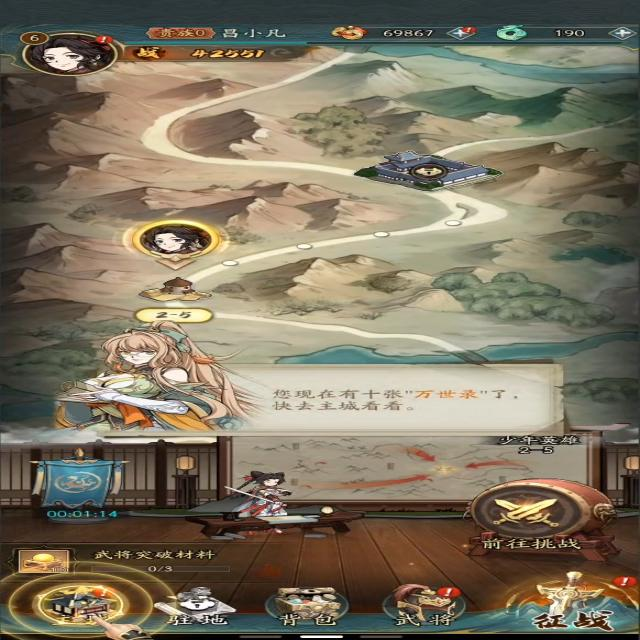hint-guide: (53, 324, 570, 438), (6, 562, 153, 640)
hint-reddot: (431, 584, 464, 600), (608, 573, 640, 589), (93, 586, 119, 602), (92, 33, 113, 44), (460, 25, 480, 35)
navigation-bag: (267, 583, 354, 630)
navigation-fight: (506, 570, 632, 637)
navigation-hero: (375, 582, 479, 631)
navigation-main: (42, 584, 125, 625)
navigation-role: (6, 25, 128, 79)
navigation-station-off: (153, 586, 241, 631)
operation-challenge: (463, 475, 608, 554)
